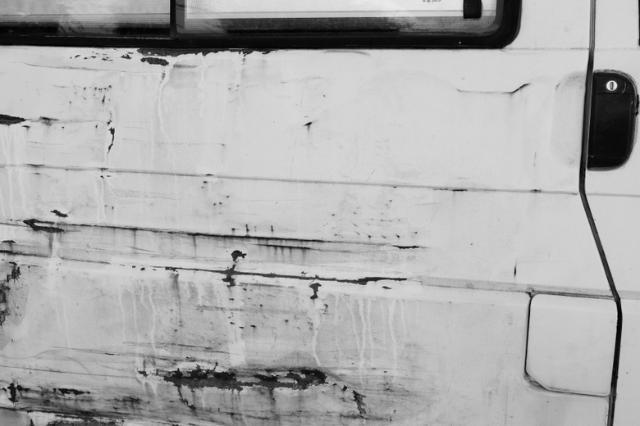Door: (4, 36, 577, 426)
